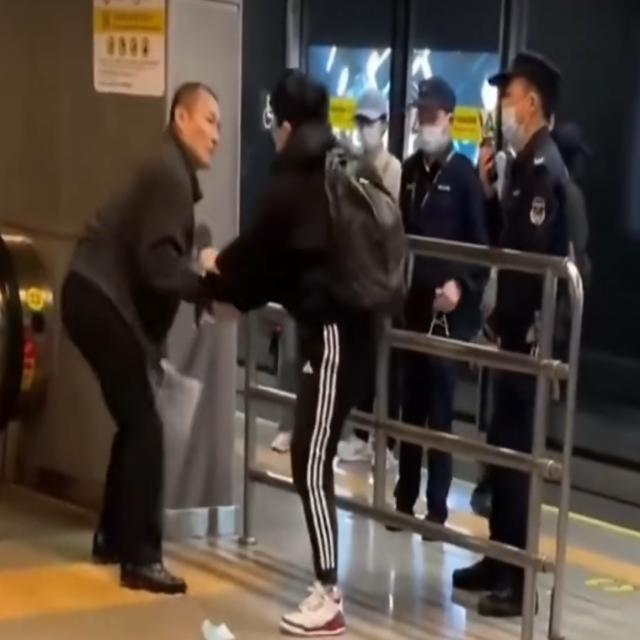nofight: (69, 72, 225, 598), (244, 70, 380, 634), (484, 56, 582, 638), (395, 62, 476, 550)
